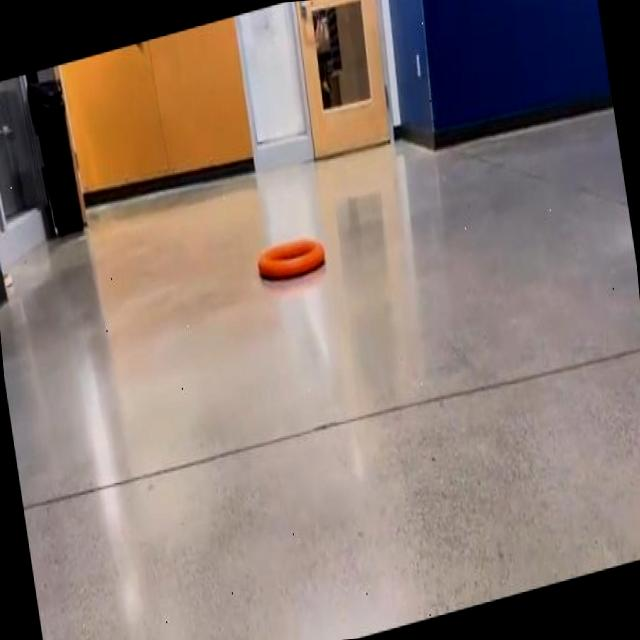note: (257, 237, 325, 278)
